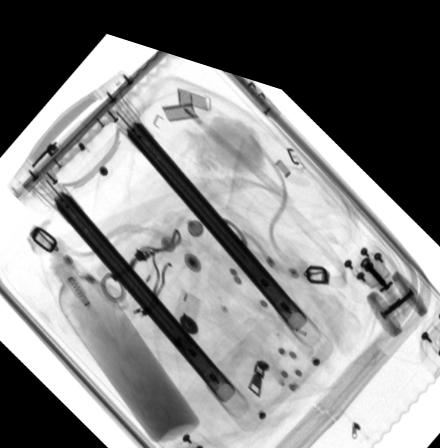Lighter: (166, 275, 200, 338)
